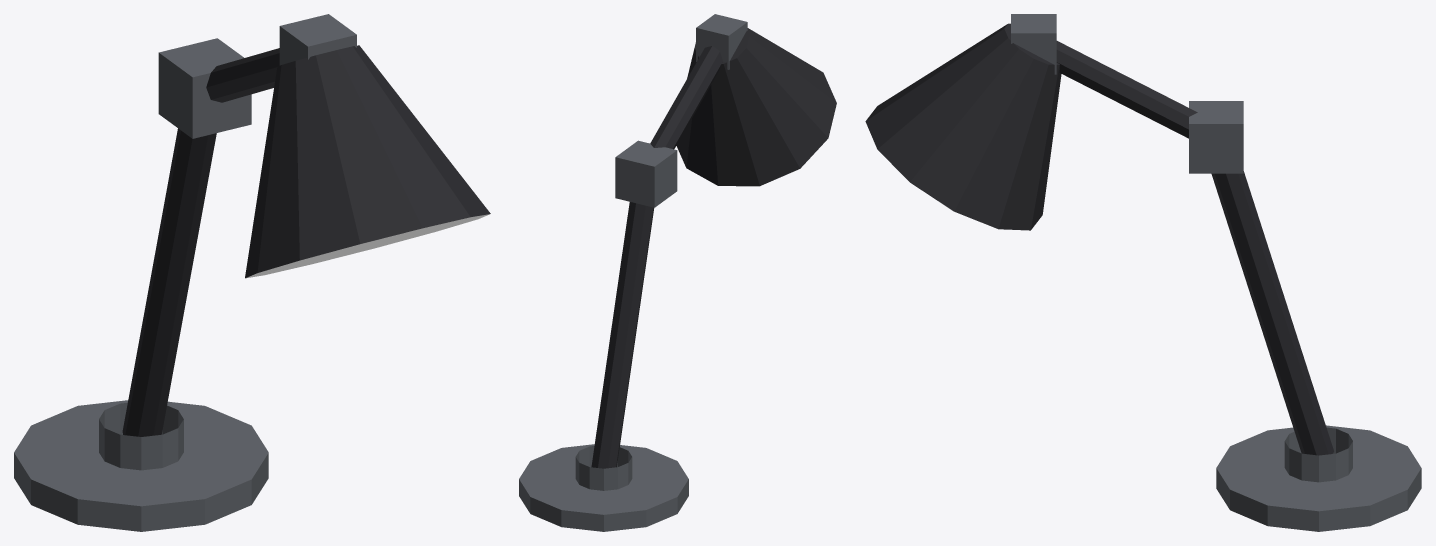
File: FN_Lamp_Desk.fbx
3 views of the same model, side by side, from view 1: azimuth 30°, elevation 25°; view 2: azimuth 150°, elevation 25°; view 3: azimuth 270°, elevation 25° (orthographic). The views are drawn at different scales.
Visible parts, largest first — view 1: FN_Lamp_Desk; view 2: FN_Lamp_Desk; view 3: FN_Lamp_Desk.
Part boxes in pixels (x1,y1,x2,y2): FN_Lamp_Desk: (14, 14, 490, 531); FN_Lamp_Desk: (519, 14, 836, 531); FN_Lamp_Desk: (865, 14, 1421, 531).
Size of the model in its own units: 18 by 45 by 48.77.
2 materials, 1 textured.
